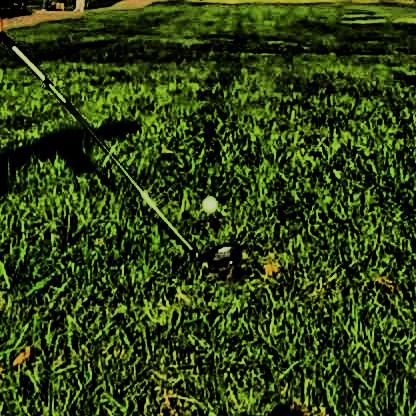golfball: (199, 192, 214, 209)
